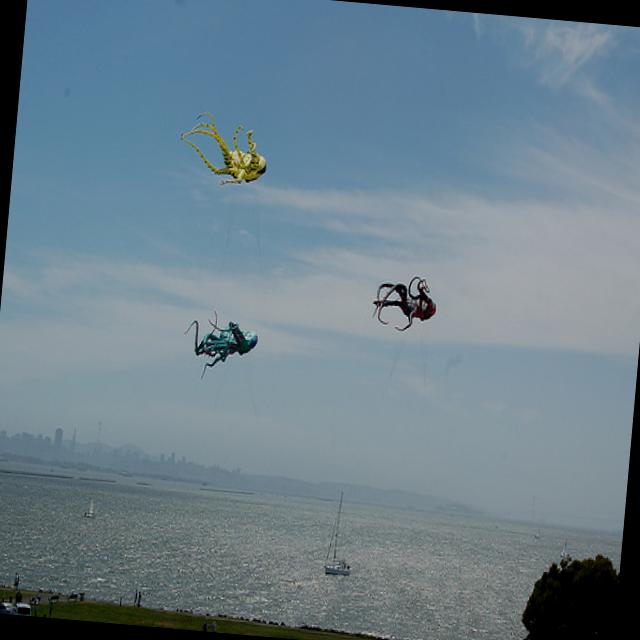Vehicle: (12, 602, 29, 616), (0, 599, 12, 614)
